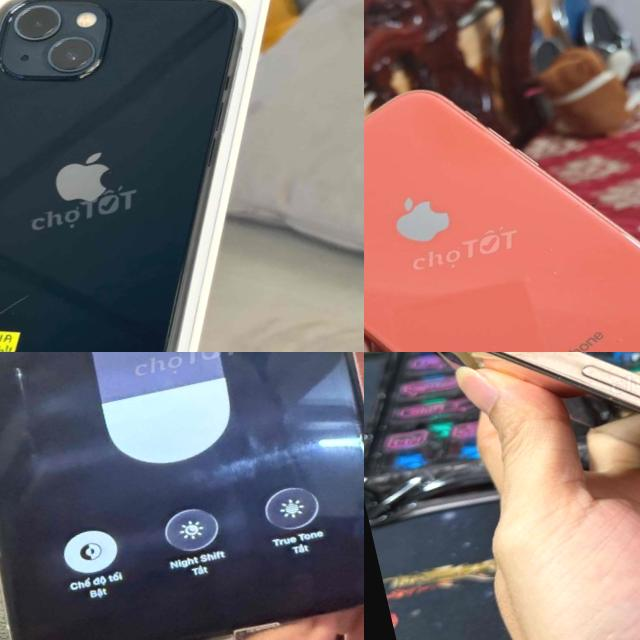gen_11: (0, 352, 364, 640)
gen_12_13: (0, 0, 321, 352)
gen_14: (384, 352, 640, 640)
gen_x_xs: (364, 13, 640, 352)
